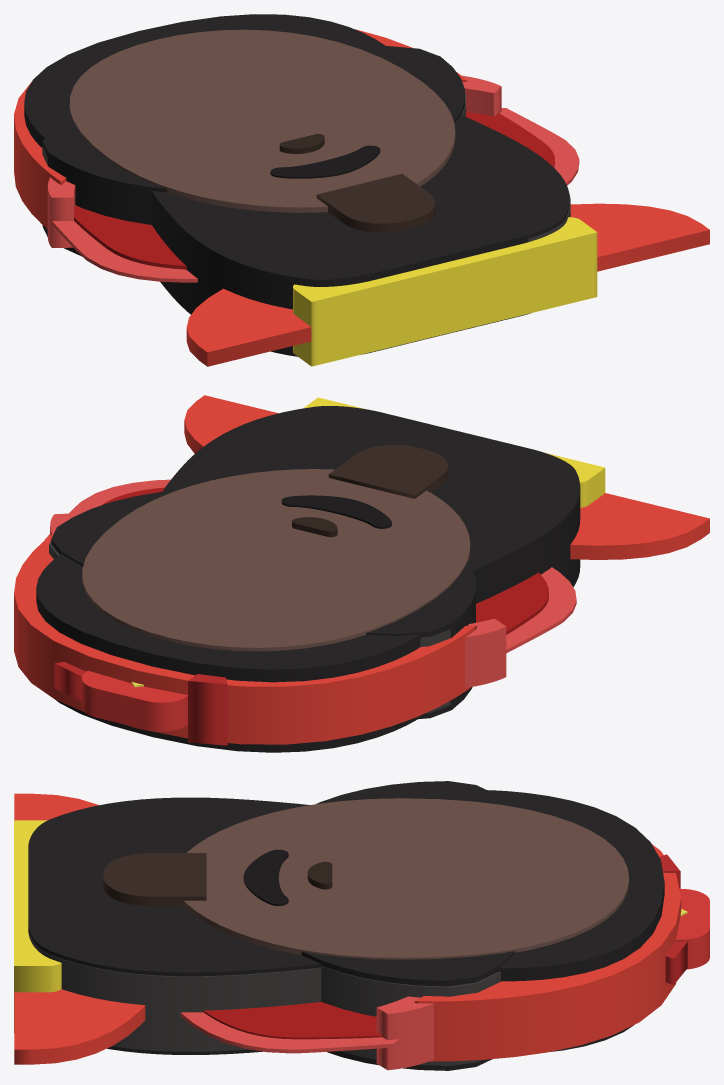
File: emoji_u1f469_1f3ff_200d_1f692.glb
3 renders of one model, top to bottom at view 1: azimuth 30°, elevation 25°; view 2: azimuth 150°, elevation 25°; view 3: azimuth 270°, elevation 25°, orthographic. The views are drawn at different scales.
Parts seen in each view (by area): view 1: emoji_u1f469_1f3ff_200d_1f692; view 2: emoji_u1f469_1f3ff_200d_1f692; view 3: emoji_u1f469_1f3ff_200d_1f692.
Part boxes in pixels (bbox=[...]): emoji_u1f469_1f3ff_200d_1f692: bbox=[14, 14, 709, 366]; emoji_u1f469_1f3ff_200d_1f692: bbox=[14, 395, 709, 752]; emoji_u1f469_1f3ff_200d_1f692: bbox=[14, 781, 709, 1070].
Bounding box in the file's own units: 0.0293 × 0.0056 × 0.0336.
